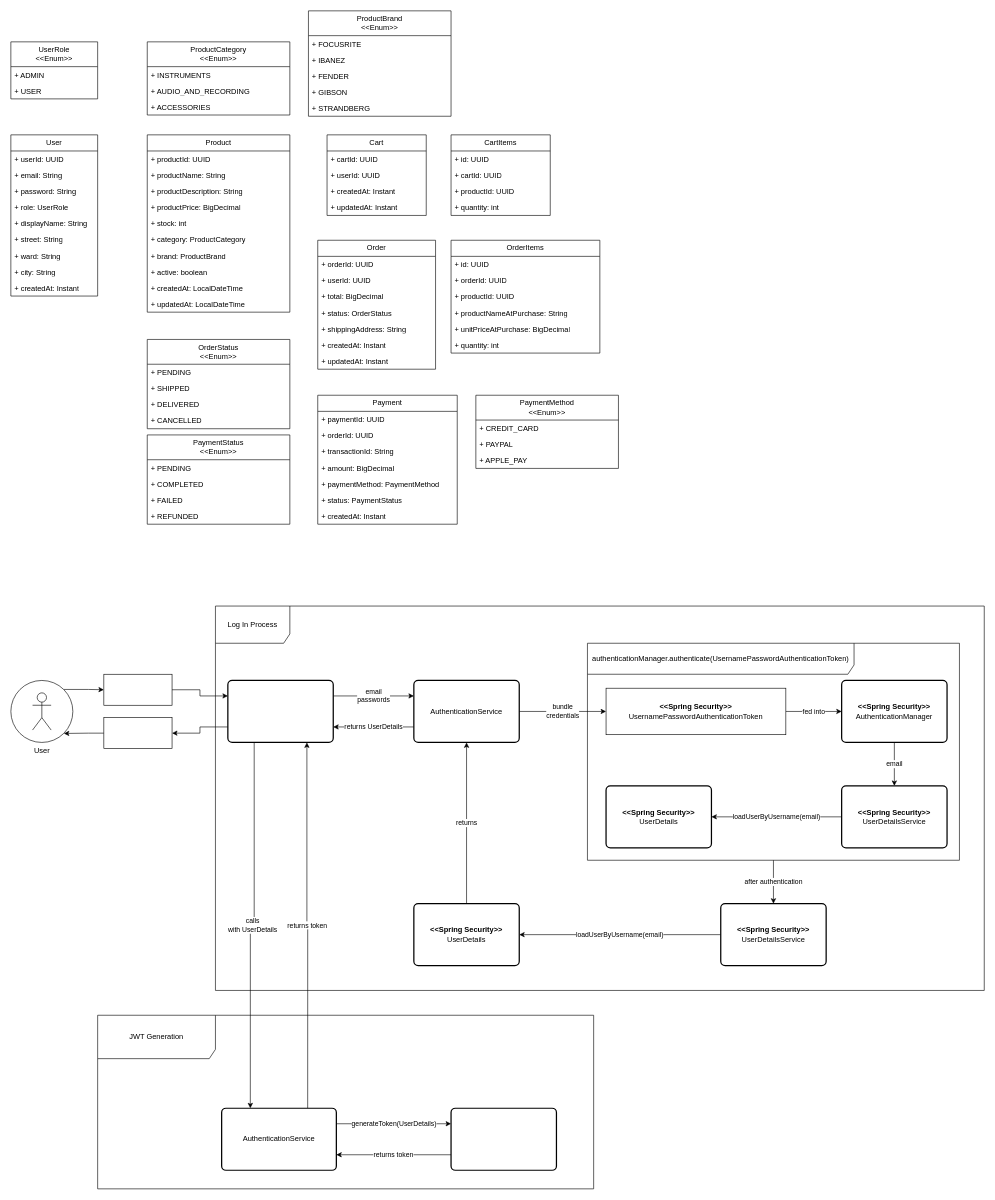
Image size: 995x1200. Some labels were removed from this diagram. Each missing label, with the centre of its shape:
<<DTO>> AuthResponse: the point at 137,733
<<DTO>> LogInRequest: the point at 137,689
<<jsonwebtoken>> Jwts: the point at 503,1139
AuthController: the point at 280,711
